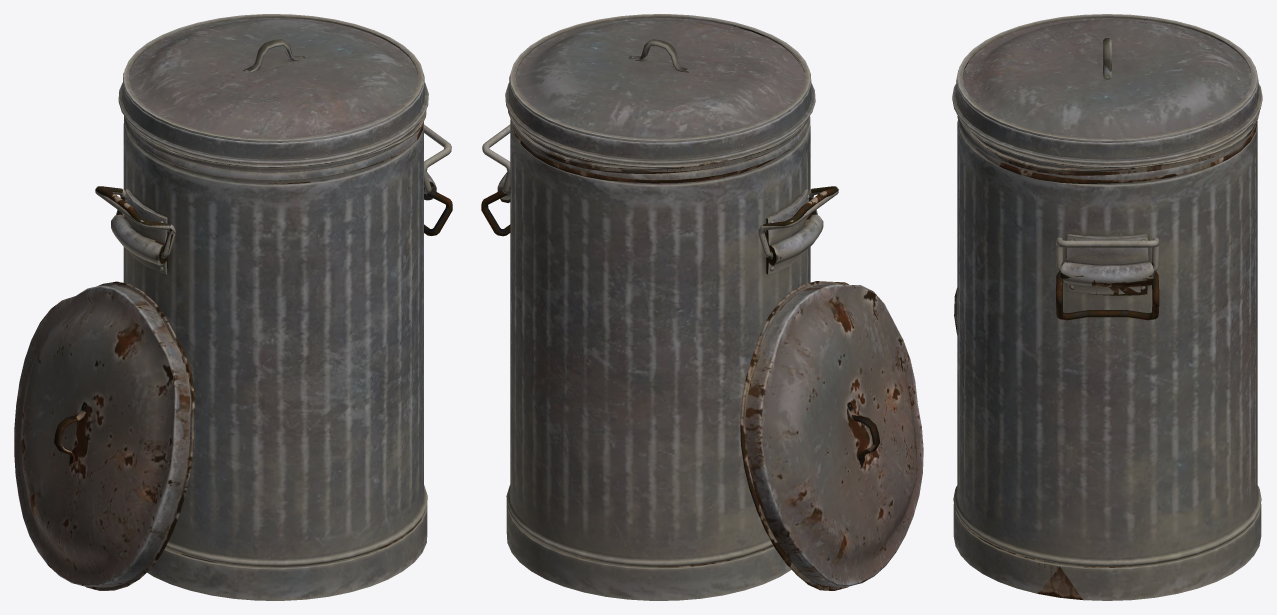
Rendered from metal_trash_can.glb.
3 renders of one model, left to right at view 1: azimuth 30°, elevation 25°; view 2: azimuth 150°, elevation 25°; view 3: azimuth 270°, elevation 25°, orthographic.
Visible parts, largest first — view 1: can_closed_LOD0, can_rusty_open_LOD0; view 2: can_closed_LOD0, can_rusty_open_LOD0; view 3: can_closed_LOD0, can_rusty_open_LOD0.
Boxes of the visible parts, x1,y1,x2,y2 form: can_closed_LOD0: (95, 14, 451, 600); can_rusty_open_LOD0: (14, 54, 452, 590); can_closed_LOD0: (482, 14, 838, 600); can_rusty_open_LOD0: (481, 23, 923, 590); can_closed_LOD0: (952, 14, 1262, 600); can_rusty_open_LOD0: (954, 18, 1259, 599).
Size of what is drawn, in the model's own units: 0.7772 by 0.978 by 0.5564.
Materials: 2 (2 with a texture image).
